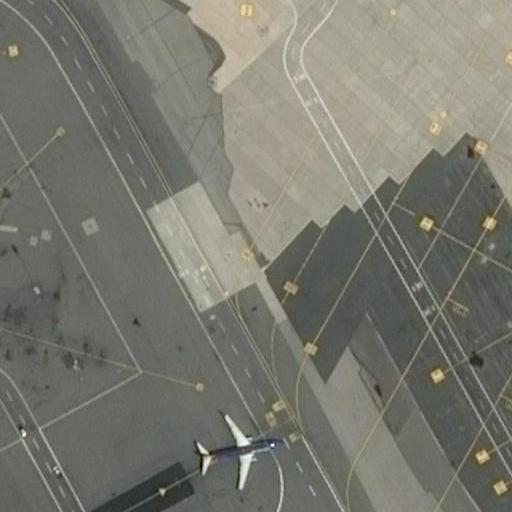Aircraft: (186, 405, 280, 496)
